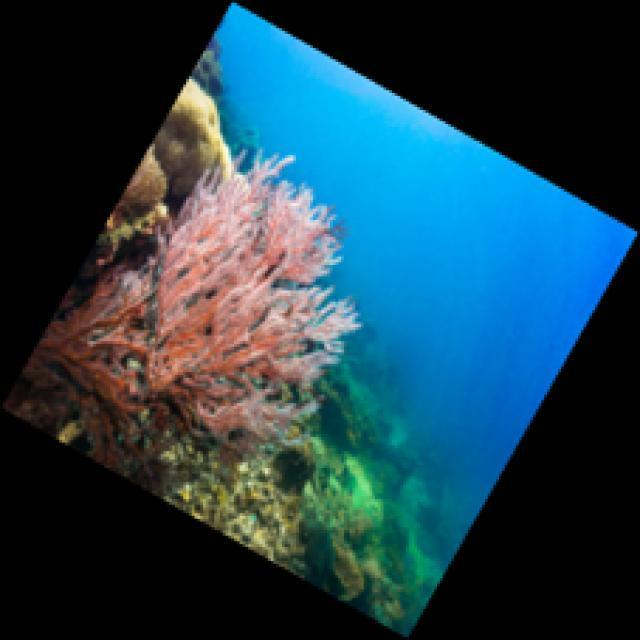Healthy: (35, 150, 355, 478), (107, 74, 238, 229)
